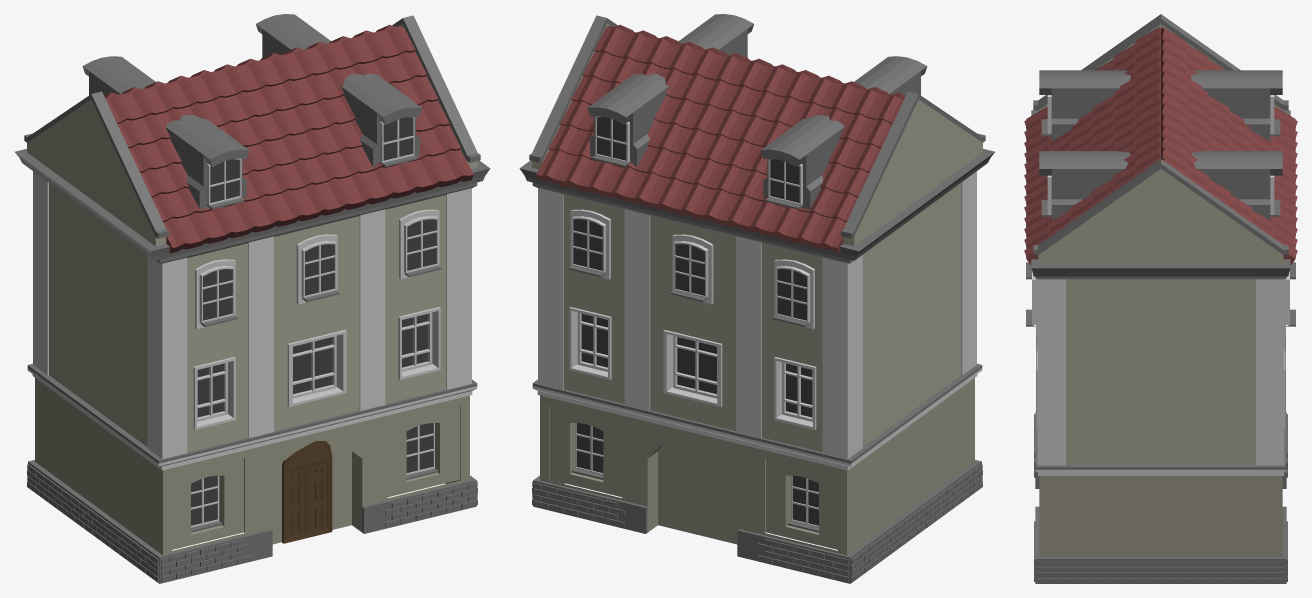
Rendered from Building1_Small.glb.
3 renders of one model, left to right at view 1: azimuth 30°, elevation 25°; view 2: azimuth 150°, elevation 25°; view 3: azimuth 270°, elevation 25°, orthographic. The views are drawn at different scales.
Parts seen in each view (by area): view 1: Building1_Small; view 2: Building1_Small; view 3: Building1_Small.
Boxes of the visible parts, x1,y1,x2,y2 form: Building1_Small: [15, 14, 490, 583]; Building1_Small: [519, 14, 994, 583]; Building1_Small: [1024, 14, 1297, 583].
Bounding box in the file's own units: 3.75 × 4.66 × 2.74.
